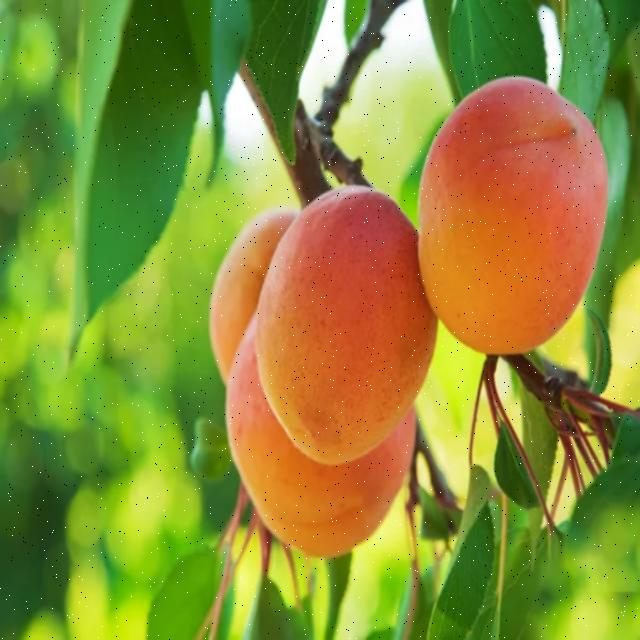kayisi: (429, 84, 610, 354), (276, 173, 438, 453), (228, 366, 417, 555), (220, 218, 274, 341)
yaprak: (72, 13, 207, 340), (555, 458, 640, 639), (433, 0, 568, 98), (233, 0, 313, 133), (154, 512, 237, 640), (459, 471, 503, 640)
